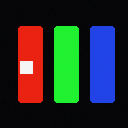1 square: (20, 61, 32, 73)
